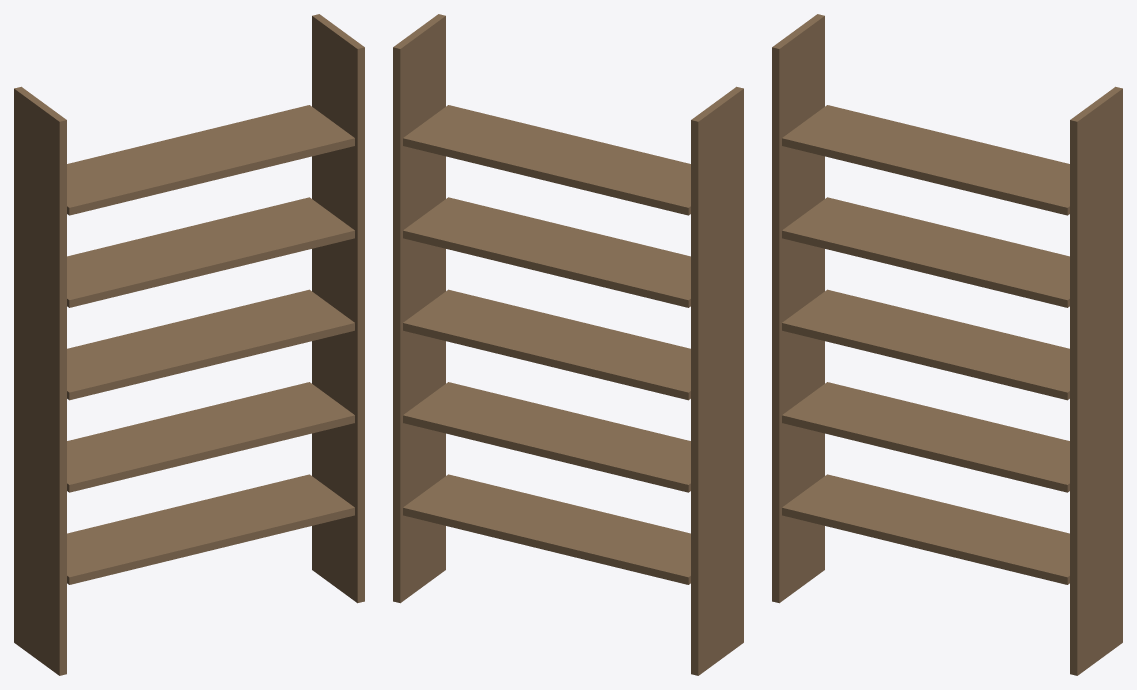
File: bookshelf_04.glb
The picture shows the model from 3 angles, left to right: view 1: azimuth 30°, elevation 25°; view 2: azimuth 150°, elevation 25°; view 3: azimuth 330°, elevation 25°; orthographic projection.
Bounding box in the file's own units: 1.24 × 2.15 × 0.32.
